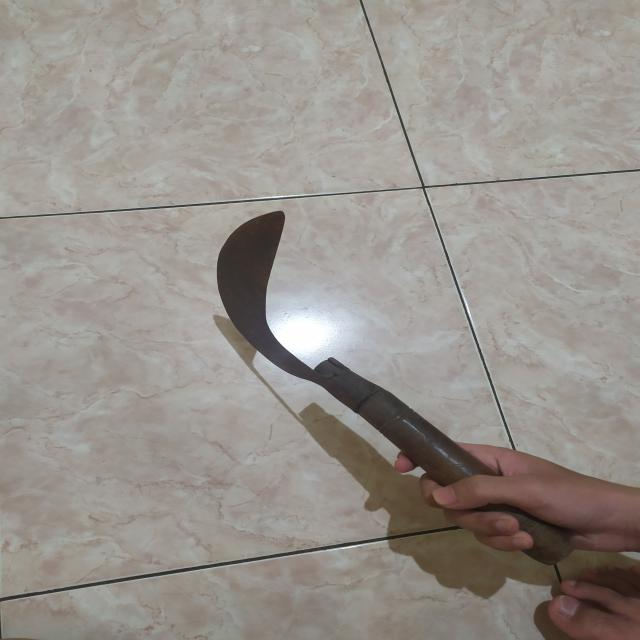Celurit: (221, 212, 571, 563)
